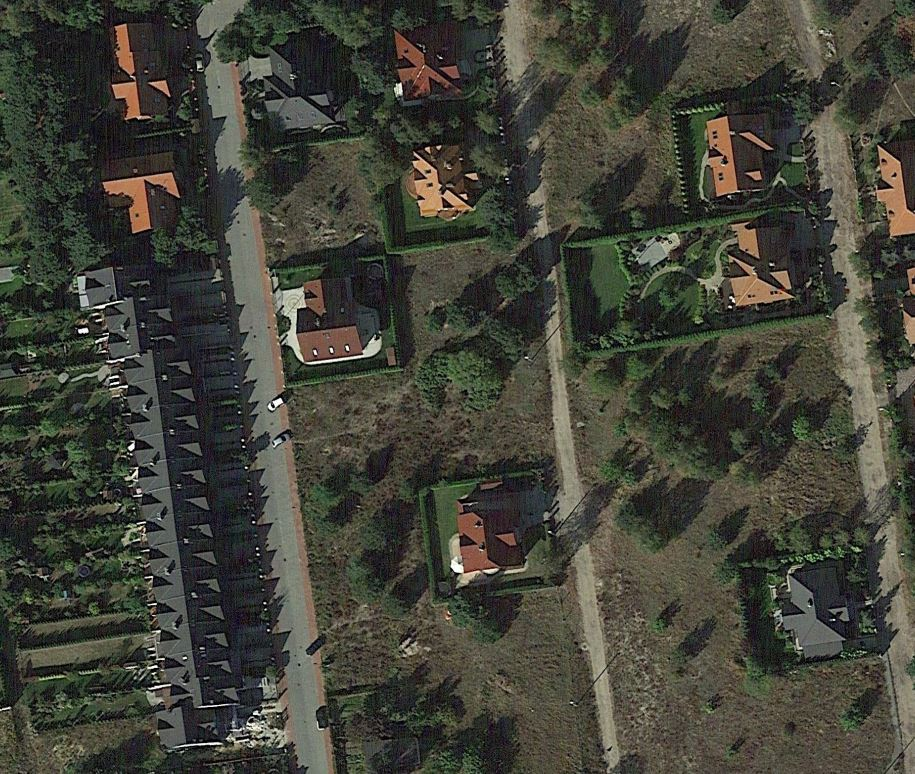family house: (254, 25, 359, 130), (768, 564, 868, 667), (98, 142, 191, 249), (699, 103, 782, 201), (98, 14, 167, 128), (389, 19, 475, 103), (723, 219, 802, 308), (290, 273, 367, 359), (449, 492, 528, 575), (406, 137, 484, 221)
terrace house: (69, 265, 248, 749)
